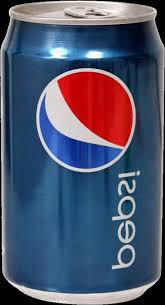pepsi: (2, 2, 161, 303)
